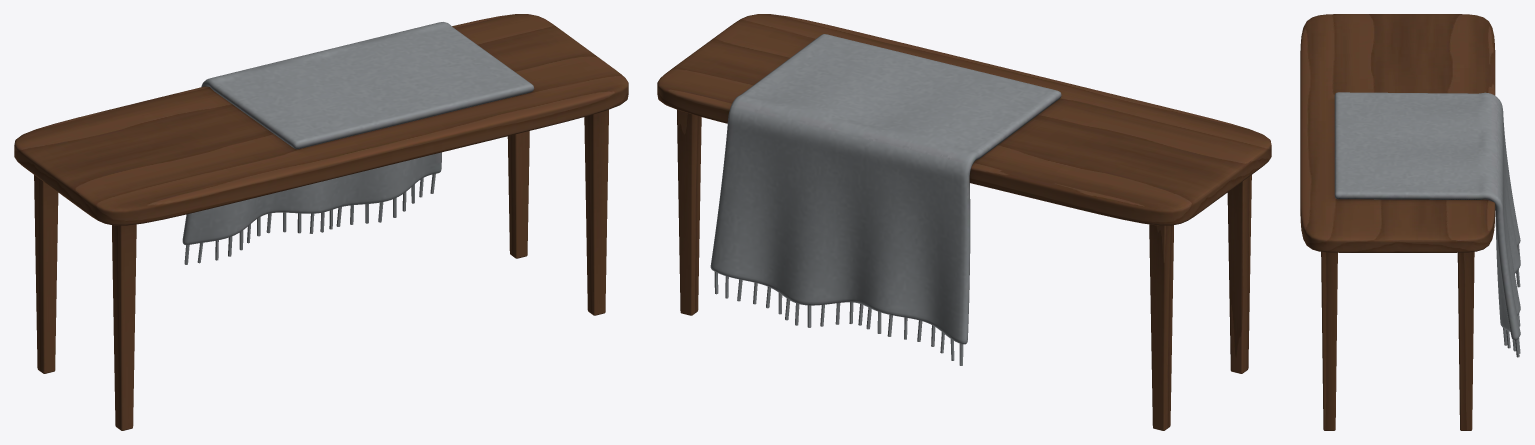
File: knit-grey.glb
3 renders of one model, left to right at view 1: azimuth 30°, elevation 25°; view 2: azimuth 150°, elevation 25°; view 3: azimuth 270°, elevation 25°, orthographic. The views are drawn at different scales.
Parts seen in each view (by area): view 1: bench_wood, throw_knit, bench_wood_v; view 2: throw_knit, bench_wood, bench_wood_v; view 3: bench_wood, throw_knit, bench_wood_v.
Boxes of the visible parts, x1,y1,x2,y2 form: bench_wood: [14, 14, 628, 225]; throw_knit: [182, 22, 534, 264]; bench_wood_v: [34, 109, 608, 430]; throw_knit: [710, 34, 1061, 365]; bench_wood: [657, 14, 1271, 225]; bench_wood_v: [677, 109, 1251, 430]; bench_wood: [1300, 14, 1495, 252]; throw_knit: [1334, 92, 1520, 357]; bench_wood_v: [1321, 252, 1474, 430].
Size of the model in its own units: 1.1 by 0.4787 by 0.4518.
3 materials, 3 textured.
